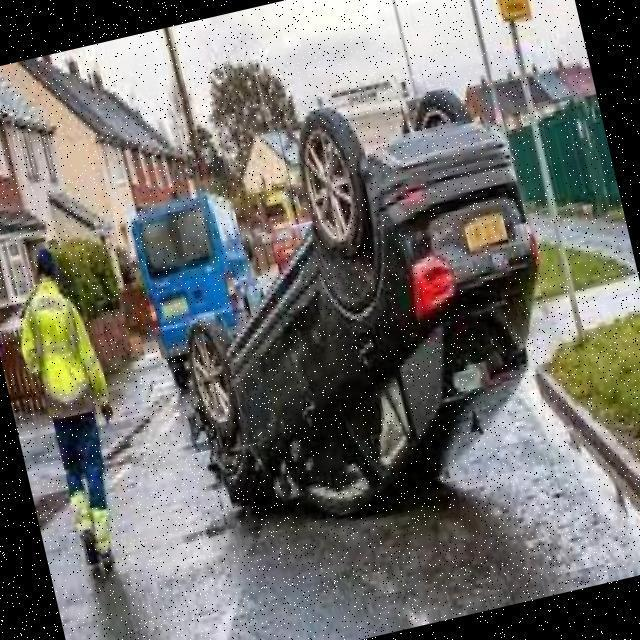accident: (124, 69, 586, 549)
